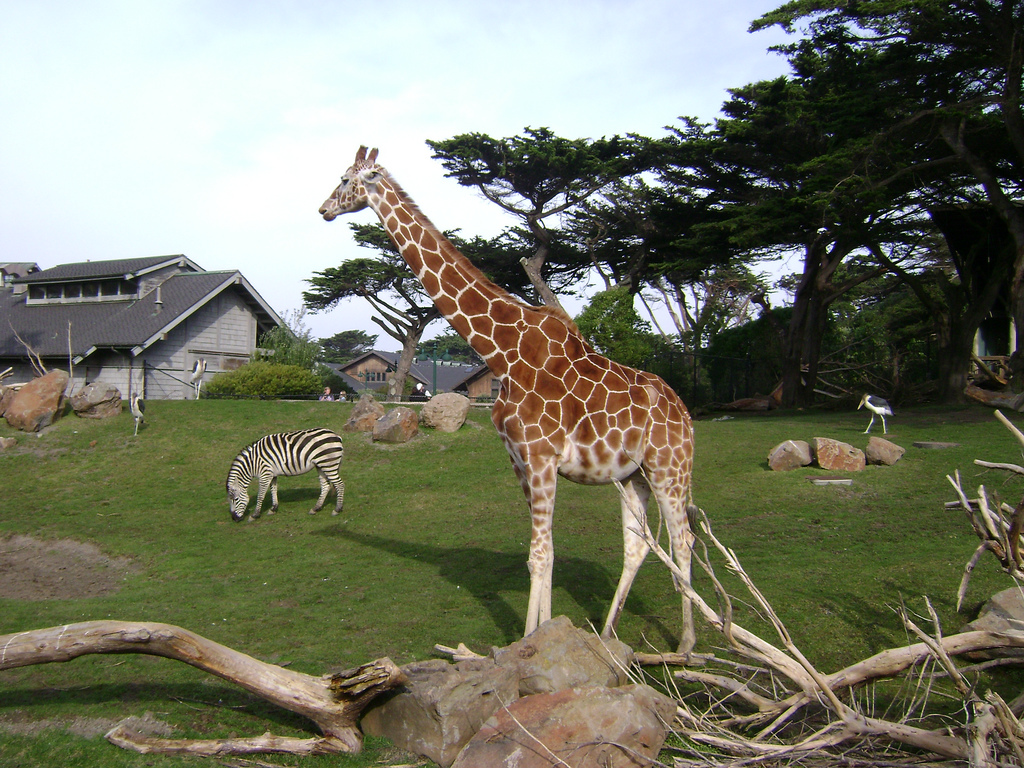giraffe: (326, 145, 737, 652)
